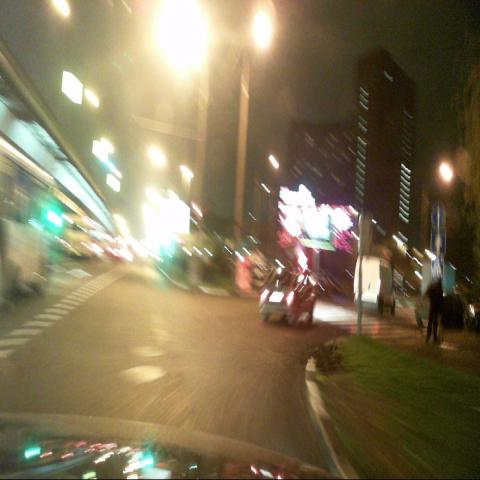4_1_1: (431, 208, 445, 232)
5_5: (431, 232, 445, 256)
